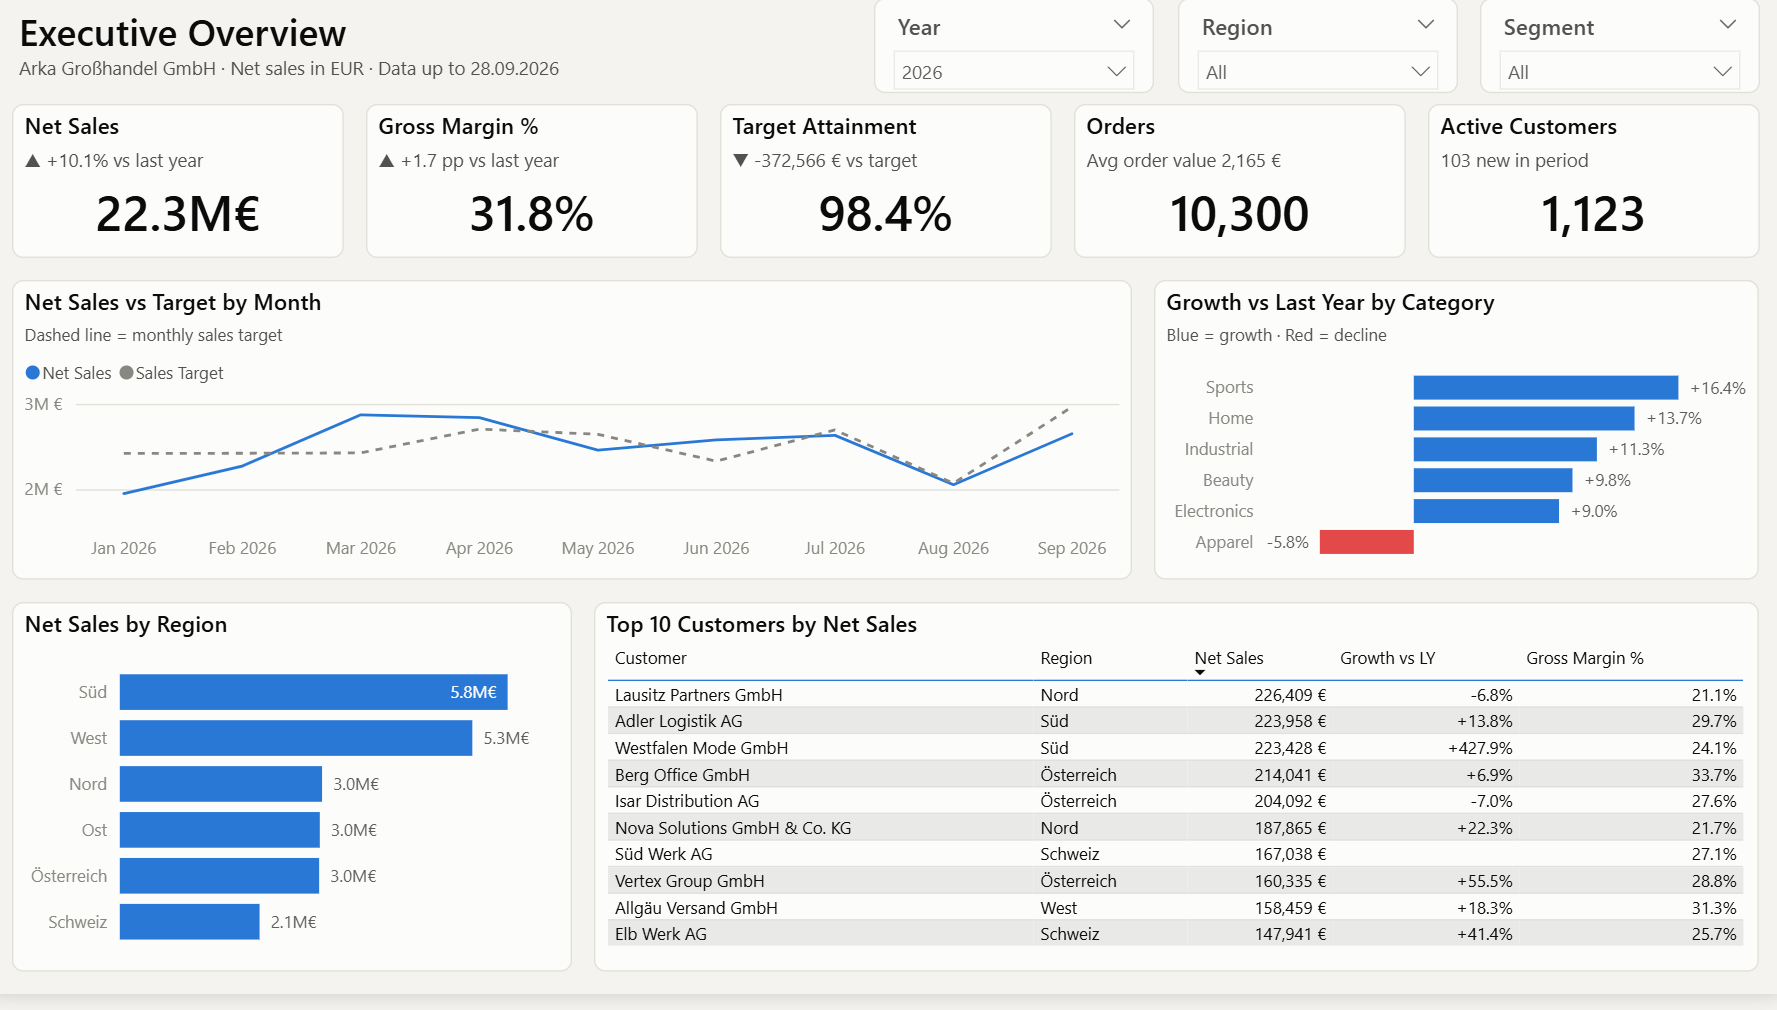

What the dashboard file says about the page in this screenshot:
{"tool":"powerbi","page":{"name":"Executive Overview","canvas":[1280,720],"ordinal":0},"visuals":[{"type":"textbox","box":[16,8,600,70],"z":0},{"type":"slicer","fields":{"Values":["dim_date.year"]},"box":[632,8,200,68],"z":1000},{"type":"slicer","fields":{"Values":["dim_customer.region"]},"box":[848,8,200,68],"z":2000},{"type":"slicer","fields":{"Values":["dim_customer.segment"]},"box":[1064,8,200,68],"z":3000},{"type":"card","title":"Net Sales","fields":{"Values":["_measures.Net Sales"]},"box":[16,84,236.8,110],"z":4000},{"type":"card","title":"Gross Margin %","fields":{"Values":["_measures.Gross Margin %"]},"box":[268.8,84,236.8,110],"z":5000},{"type":"card","title":"Target Attainment","fields":{"Values":["_measures.Target Attainment %"]},"box":[521.6,84,236.8,110],"z":6000},{"type":"card","title":"Orders","fields":{"Values":["_measures.Orders"]},"box":[774.4,84,236.8,110],"z":7000},{"type":"card","title":"Active Customers","fields":{"Values":["_measures.Active Customers"]},"box":[1027.2,84,236.8,110],"z":8000},{"type":"lineChart","title":"Net Sales vs Target by Month","fields":{"Category":["dim_date.Month Year"],"Y":["_measures.Net Sales","_measures.Sales Target"]},"box":[16,210,800,214],"z":9000},{"type":"clusteredBarChart","title":"Growth vs Last Year by Category","fields":{"Category":["dim_product.category"],"Y":["_measures.Net Sales YoY %"]},"box":[832,210,432,214],"z":10000},{"type":"clusteredBarChart","title":"Net Sales by Region","fields":{"Category":["dim_customer.region"],"Y":["_measures.Net Sales"]},"box":[16,440,400,264],"z":11000},{"type":"tableEx","title":"Top 10 Customers by Net Sales","fields":{"Values":["dim_customer.customer_name","dim_customer.region","_measures.Net Sales","_measures.Net Sales YoY %","_measures.Gross Margin %"]},"box":[432,440,832,264],"z":12000}]}

Visuals, with their boxes in screenshot pixels (x1, y1, x2, y2), scaled from the page's 1280x720 canvas onto the 1777x1010 screenshot:
textbox: (x1=22, y1=11, x2=855, y2=109)
slicer - dim_date.year: (x1=877, y1=11, x2=1155, y2=107)
slicer - dim_customer.region: (x1=1177, y1=11, x2=1455, y2=107)
slicer - dim_customer.segment: (x1=1477, y1=11, x2=1755, y2=107)
"Net Sales" card: (x1=22, y1=118, x2=351, y2=272)
"Gross Margin %" card: (x1=373, y1=118, x2=702, y2=272)
"Target Attainment" card: (x1=724, y1=118, x2=1053, y2=272)
"Orders" card: (x1=1075, y1=118, x2=1404, y2=272)
"Active Customers" card: (x1=1426, y1=118, x2=1755, y2=272)
"Net Sales vs Target by Month" lineChart: (x1=22, y1=295, x2=1133, y2=595)
"Growth vs Last Year by Category" clusteredBarChart: (x1=1155, y1=295, x2=1755, y2=595)
"Net Sales by Region" clusteredBarChart: (x1=22, y1=617, x2=578, y2=988)
"Top 10 Customers by Net Sales" tableEx: (x1=600, y1=617, x2=1755, y2=988)
